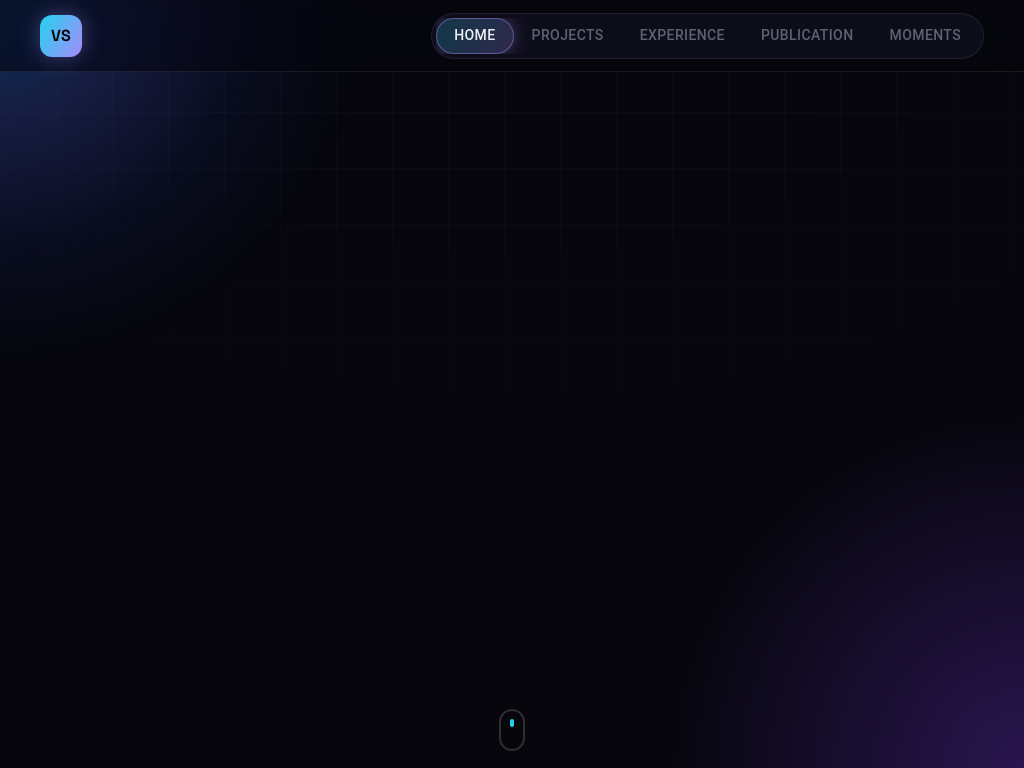
Test: navigation › clicking a tab navigates and moves the highlight
Click the tab "Experience" at (682, 35), box [640,27,725,43]
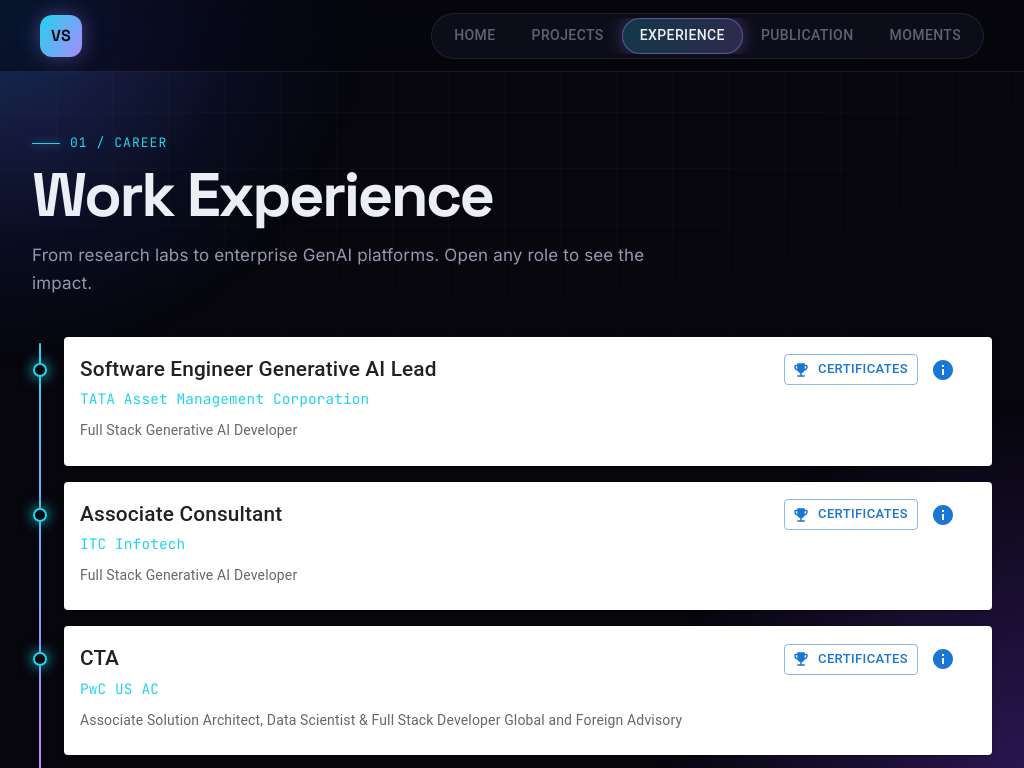
Expected: the heading "Work Experience" is shown, [32,165,493,226]
